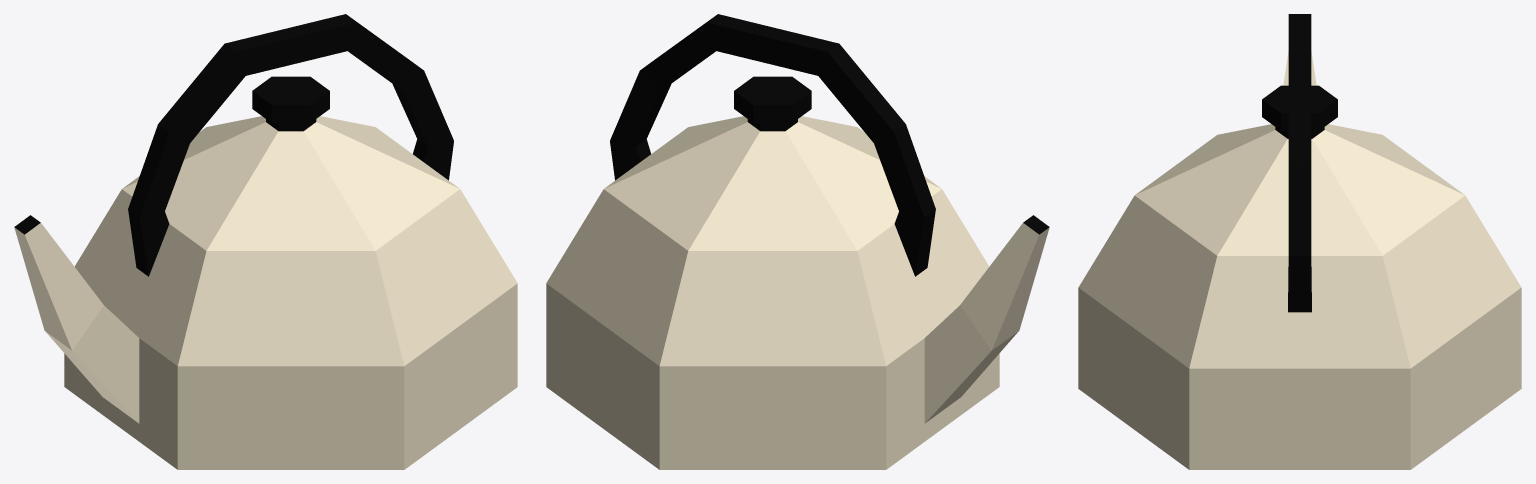
File: kettle3_PLY.fbx
The picture shows the model from 3 angles, left to right: view 1: azimuth 30°, elevation 25°; view 2: azimuth 150°, elevation 25°; view 3: azimuth 270°, elevation 25°; orthographic projection. The views are drawn at different scales.
Parts seen in each view (by area): view 1: kettle3_PLY; view 2: kettle3_PLY; view 3: kettle3_PLY.
Boxes of the visible parts, left/top/right/bottom form: kettle3_PLY: left=14, top=14, right=517, bottom=469; kettle3_PLY: left=546, top=14, right=1049, bottom=469; kettle3_PLY: left=1078, top=14, right=1521, bottom=469.
Bounding box in the file's own units: 0.9745 × 0.7462 × 0.8663.
